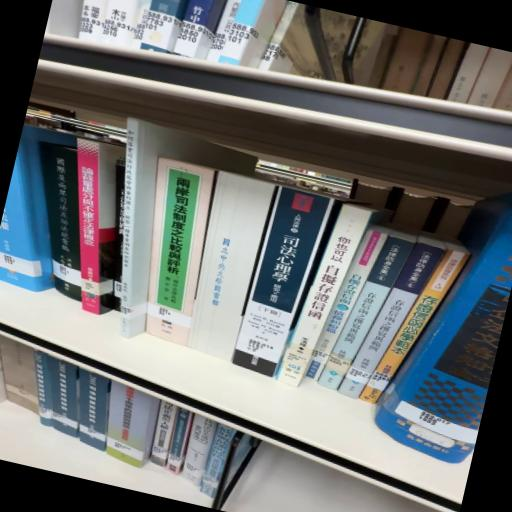backward: (188, 171, 277, 362)
book: (0, 113, 147, 310), (117, 154, 225, 346)
